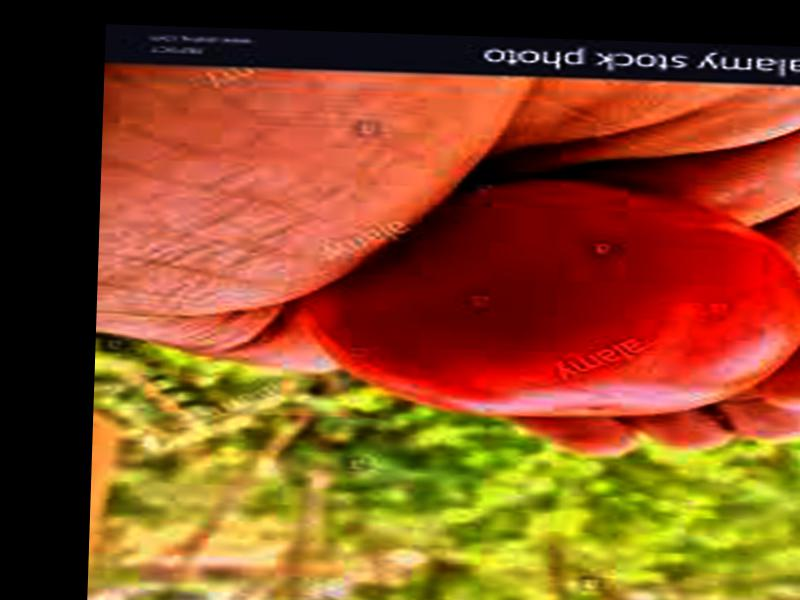Tomato: (310, 173, 800, 422)
